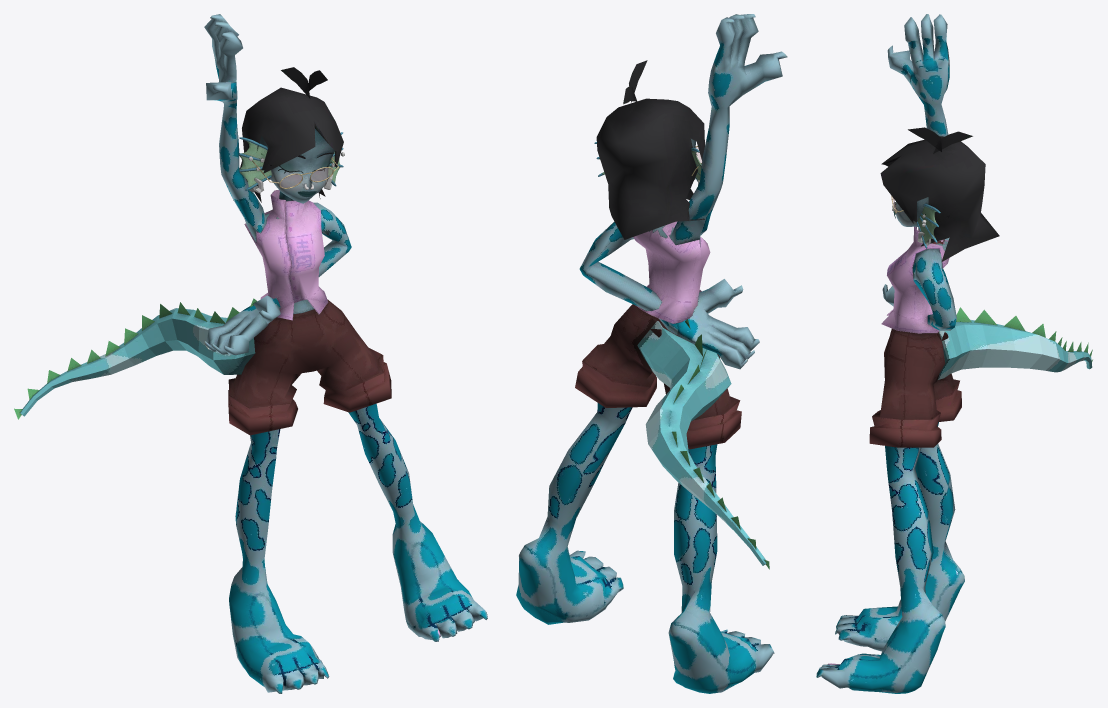
The model's file is Shelby.glb.
3 views of the same model, side by side, from view 1: azimuth 30°, elevation 25°; view 2: azimuth 150°, elevation 25°; view 3: azimuth 270°, elevation 25° (orthographic). The views are drawn at different scales.
Parts seen in each view (by area): view 1: 00-Legs, 00-Shorts, 00-Skin, 03-Reptile_Tail_v2_Frozen, 01-Shirt, 00-Hair, 00-Finn; view 2: 00-Legs, 00-Skin, 00-Hair, 03-Reptile_Tail_v2_Frozen, 00-Shorts, 01-Shirt; view 3: 00-Legs, 00-Hair, 00-Shorts, 00-Skin, 03-Reptile_Tail_v2_Frozen, 01-Shirt, 00-Finn.
Boxes of the visible parts, left/top/right/bottom form: 00-Legs: left=229, top=403, right=487, bottom=693; 00-Shorts: left=228, top=299, right=391, bottom=435; 00-Skin: left=204, top=14, right=351, bottom=355; 03-Reptile_Tail_v2_Frozen: left=14, top=298, right=257, bottom=419; 01-Shirt: left=244, top=190, right=328, bottom=320; 00-Hair: left=233, top=67, right=343, bottom=202; 00-Finn: left=239, top=132, right=343, bottom=190; 00-Legs: left=516, top=403, right=774, bottom=693; 00-Skin: left=579, top=14, right=787, bottom=369; 00-Hair: left=596, top=60, right=704, bottom=239; 03-Reptile_Tail_v2_Frozen: left=637, top=319, right=769, bottom=569; 00-Shorts: left=575, top=304, right=741, bottom=449; 01-Shirt: left=633, top=221, right=710, bottom=323; 00-Legs: left=816, top=422, right=964, bottom=693; 00-Hair: left=880, top=127, right=999, bottom=261; 00-Shorts: left=869, top=328, right=961, bottom=447; 00-Skin: left=882, top=14, right=956, bottom=330; 03-Reptile_Tail_v2_Frozen: left=937, top=307, right=1092, bottom=379; 01-Shirt: left=881, top=226, right=949, bottom=333; 00-Finn: left=916, top=203, right=940, bottom=248.
Size of the model in its own units: 1.12 by 2.05 by 0.8447.
Materials: 5 (5 with a texture image).
